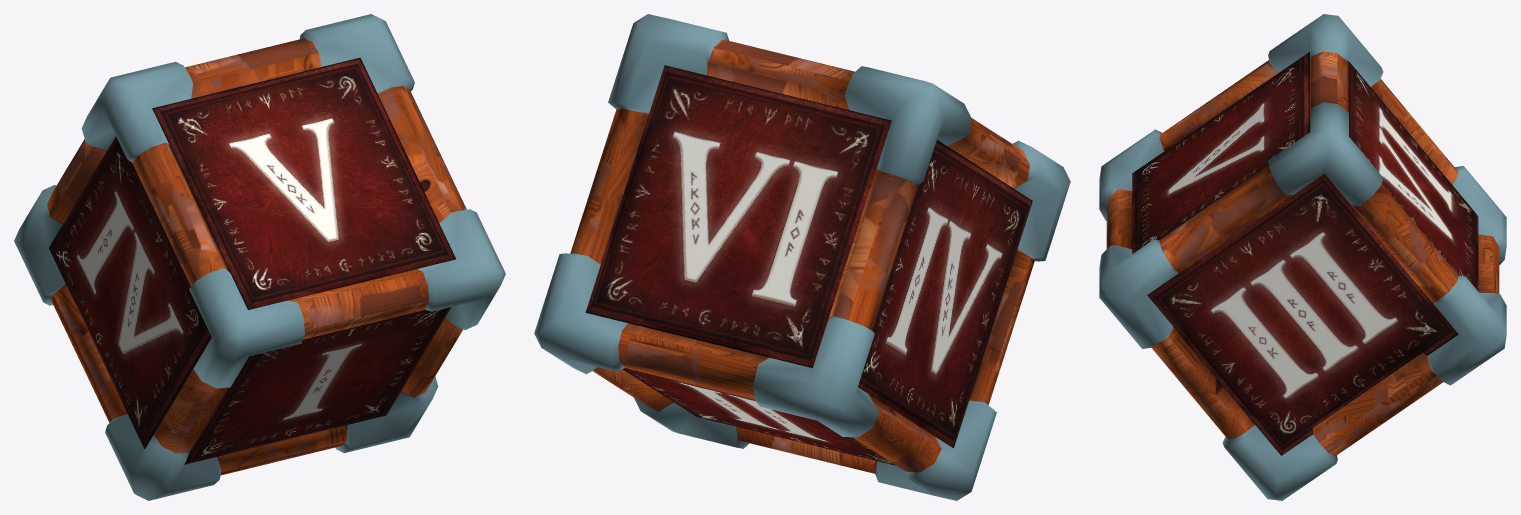
The model's file is Cube_ani_test.fbx.
3 views of the same model, side by side, from view 1: azimuth 30°, elevation 25°; view 2: azimuth 150°, elevation 25°; view 3: azimuth 270°, elevation 25° (orthographic). The views are drawn at different scales.
Visible parts, largest first — view 1: Dice_Red; view 2: Dice_Red; view 3: Dice_Red.
Part boxes in pixels (<box>): Dice_Red: <box>14,14,505,500</box>; Dice_Red: <box>534,14,1070,500</box>; Dice_Red: <box>1099,14,1506,500</box>.
Size of the model in its own units: 200 by 267 by 267.
4 materials, 3 textured.
